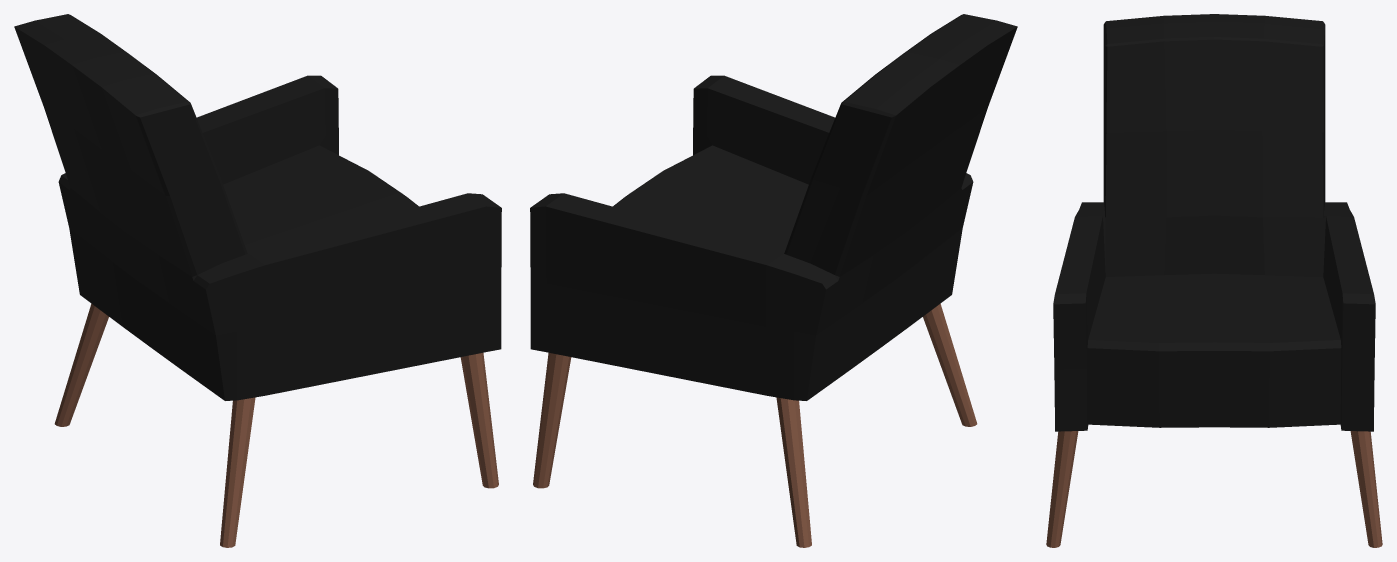
File: кресло гостинная.fbx
3 views of the same model, side by side, from view 1: azimuth 30°, elevation 25°; view 2: azimuth 150°, elevation 25°; view 3: azimuth 270°, elevation 25° (orthographic). The views are drawn at different scales.
Visible parts, largest first — view 1: Cylinder.022; view 2: Cylinder.022; view 3: Cylinder.022.
Boxes of the visible parts, left/top/right/bottom form: Cylinder.022: left=14, top=14, right=501, bottom=547; Cylinder.022: left=530, top=14, right=1017, bottom=547; Cylinder.022: left=1046, top=14, right=1382, bottom=547.
Size of the model in its own units: 704 by 866 by 675.
